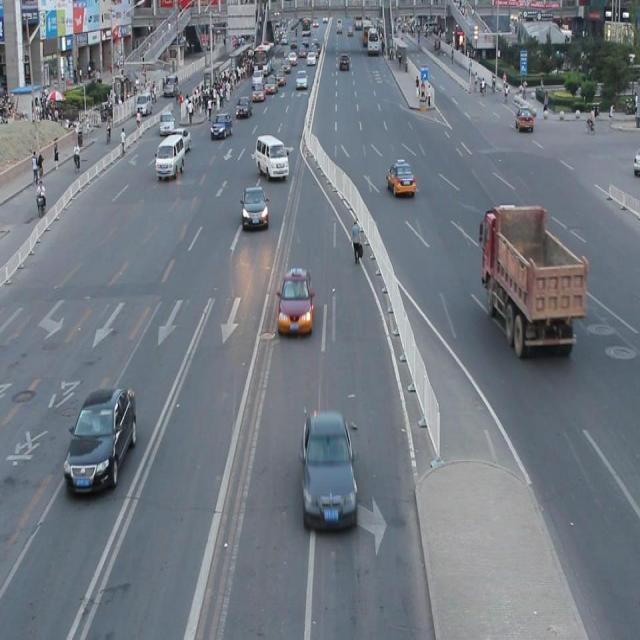bus: (478, 205, 584, 357)
car: (62, 384, 136, 492), (300, 407, 358, 529), (276, 268, 313, 336), (241, 185, 268, 231), (386, 160, 415, 198)
truck: (256, 133, 289, 180), (156, 134, 184, 182)
